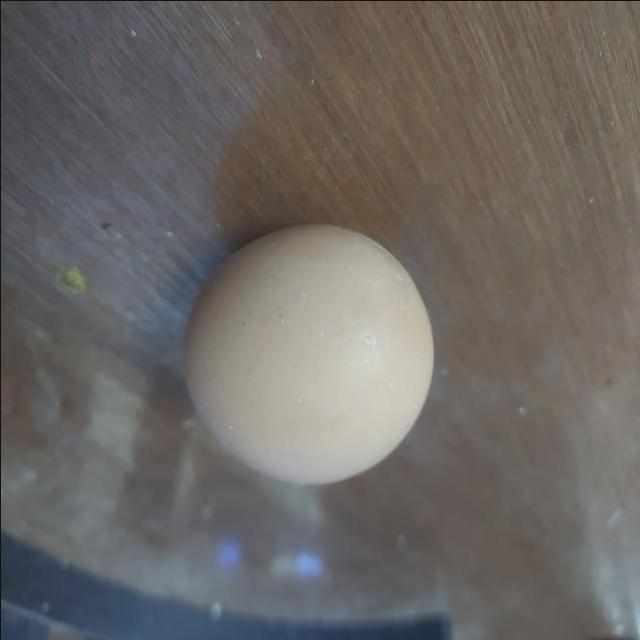egg: (173, 216, 441, 494)
